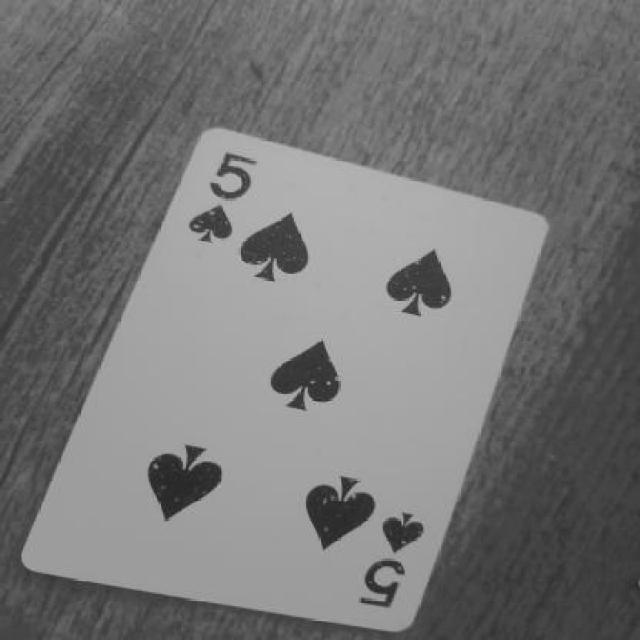5S: (348, 500, 438, 622), (178, 147, 270, 261)
